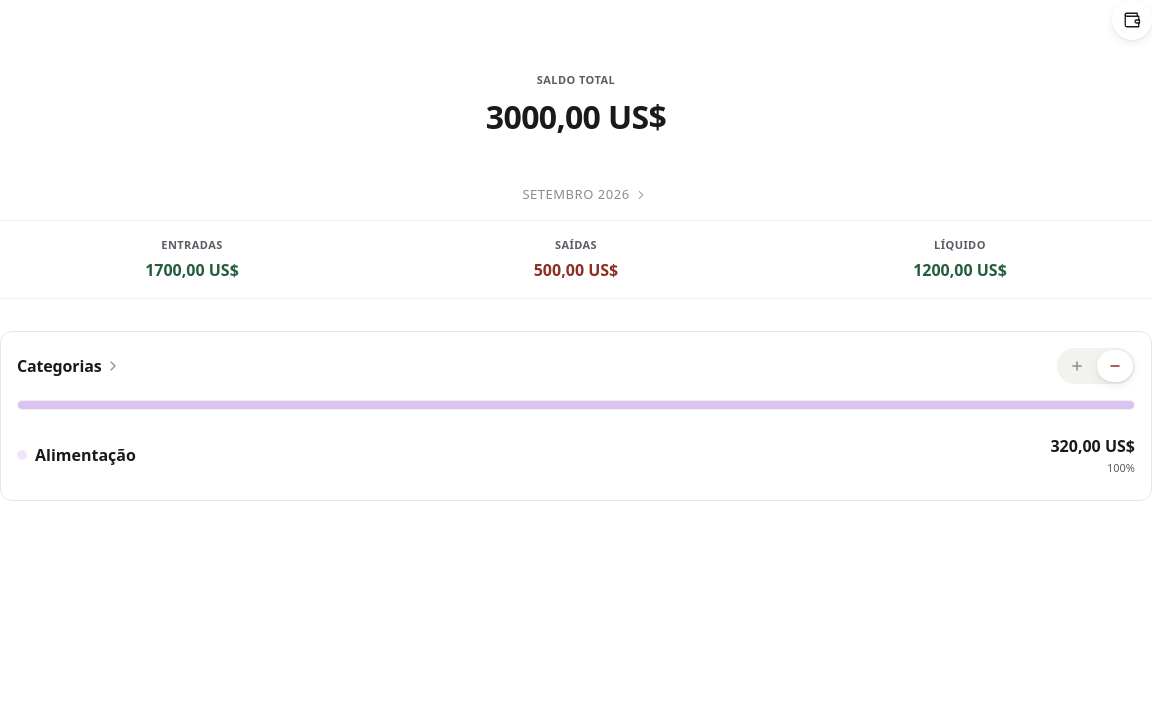
Test: Início › filtro global de contas › escolher uma conta muda a lista de categorias mostrada
Expected: the text "Alimentação" is shown, [35,444,136,466]
Click the button named "Contas: Todas" at (1132, 20), box [1112,0,1151,40]
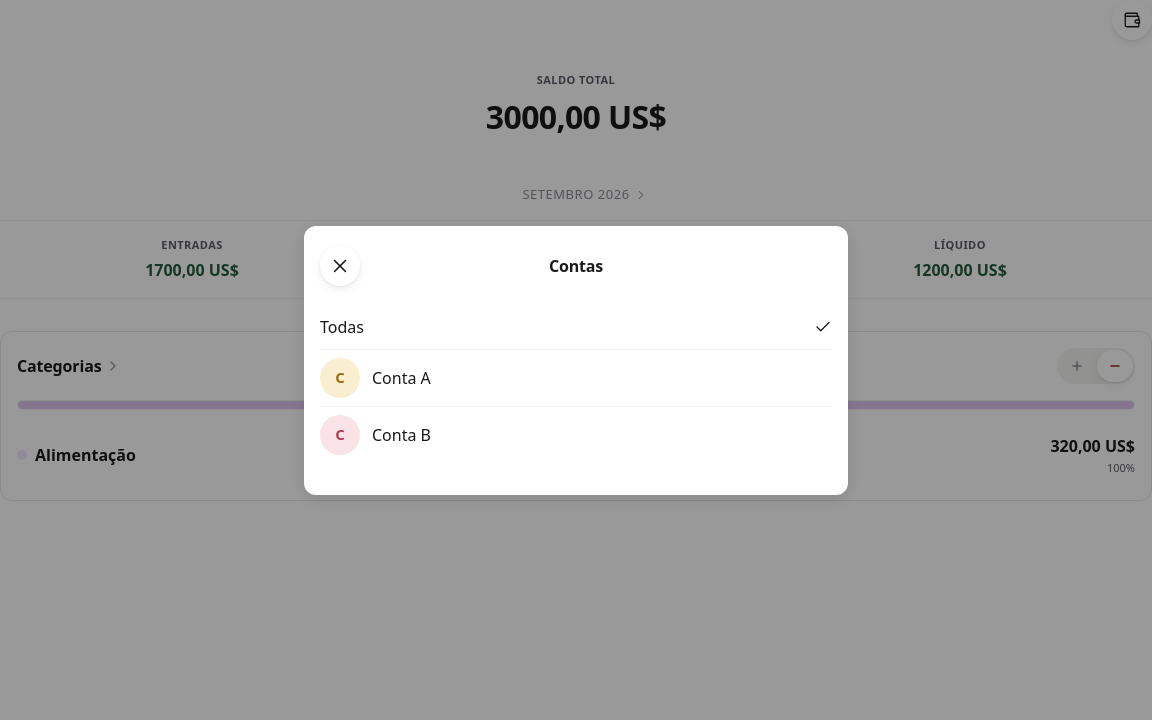
Click the button "C Conta A" at (340, 378), box [320,350,832,406]
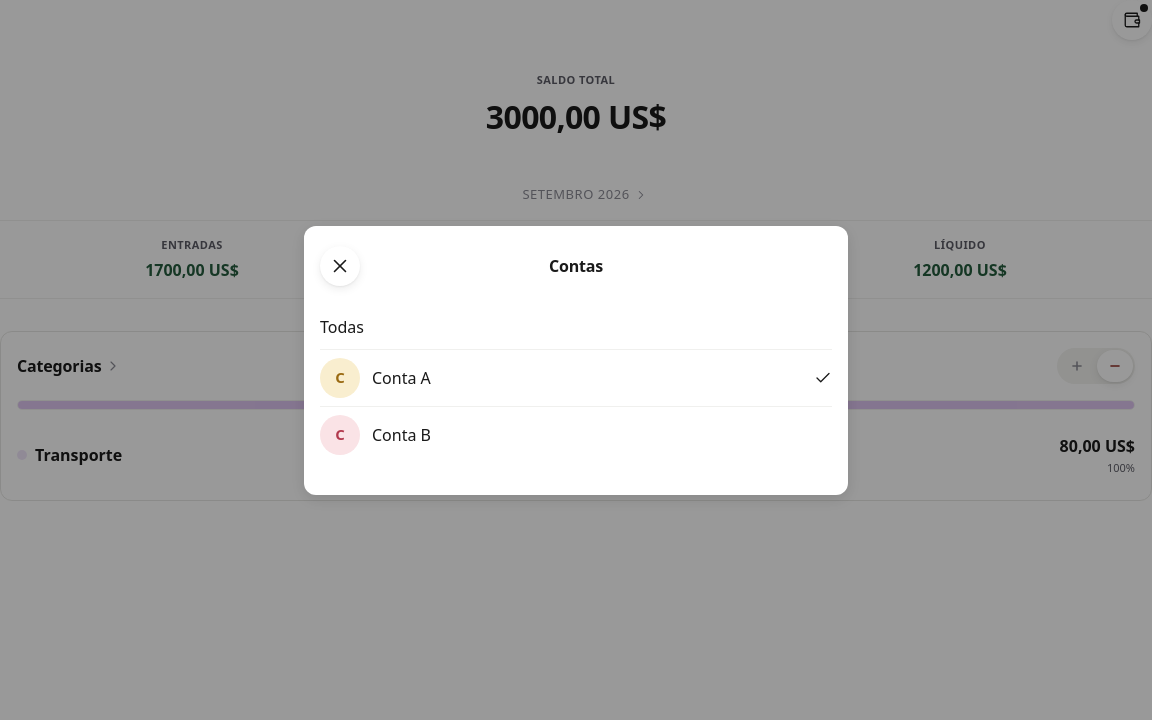
Result: the text "Transporte" is shown at [35,444,122,466]
Result: the text "Alimentação" is gone
